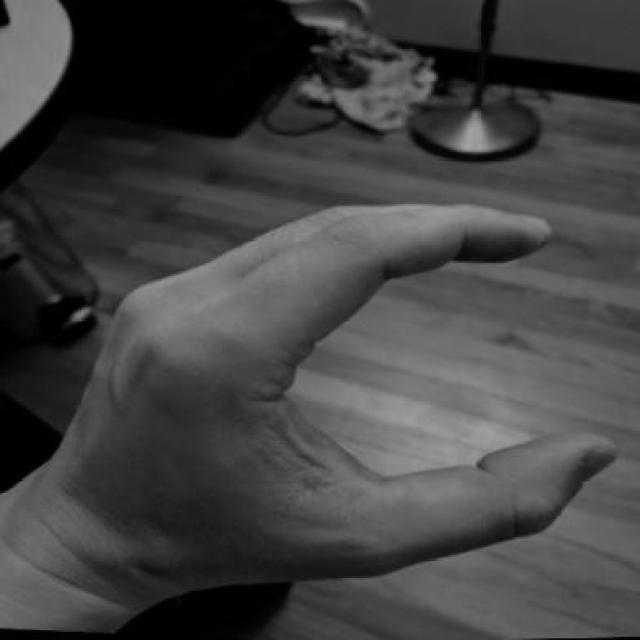C: (18, 170, 638, 638)
